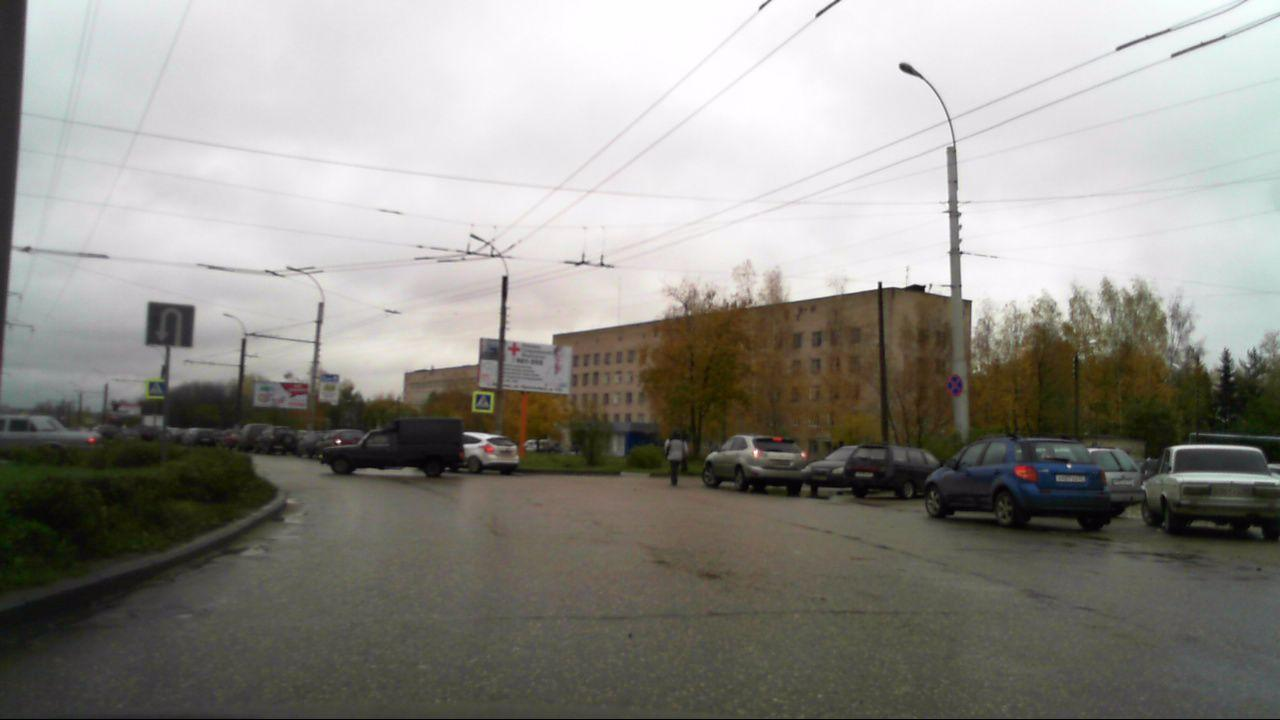3_27: (943, 373, 965, 399)
5_19_1: (473, 390, 495, 413)
5_19_2: (148, 380, 165, 398)
6_3_1: (143, 300, 195, 353)
